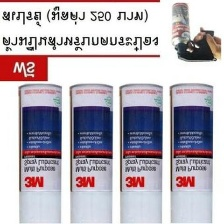aerosol_cans: (65, 78, 116, 223), (15, 80, 65, 224), (115, 80, 164, 224), (168, 79, 216, 224), (167, 0, 192, 55)
